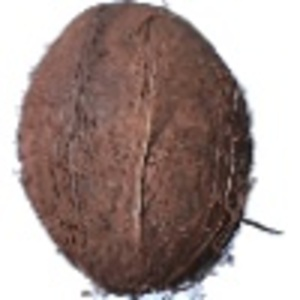coco: (18, 1, 282, 300)
